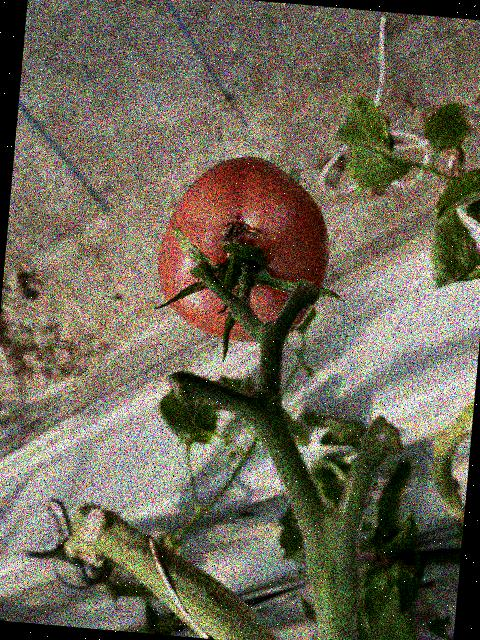b_fully_ripened: (150, 149, 338, 349)
